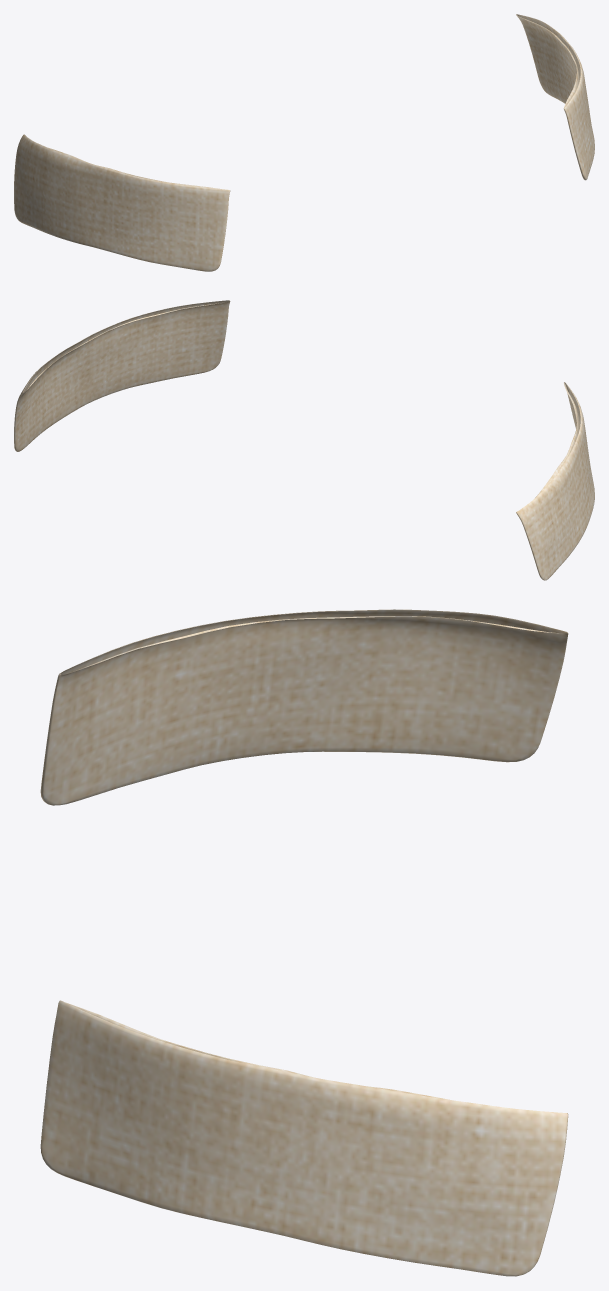
The model's file is Flap_Pocket.glb.
3 views of the same model, one above another, from view 1: azimuth 30°, elevation 25°; view 2: azimuth 150°, elevation 25°; view 3: azimuth 270°, elevation 25° (orthographic). The views are drawn at different scales.
Parts seen in each view (by area): view 1: Flap_Pocket; view 2: Flap_Pocket; view 3: Flap_Pocket.
Part boxes in pixels (x1,y1,x2,y2): Flap_Pocket: [14, 14, 594, 271]; Flap_Pocket: [14, 300, 594, 580]; Flap_Pocket: [40, 609, 568, 1276].
Bounding box in the file's own units: 0.0463 × 0.00763 × 0.02.
1 material, 1 textured.
